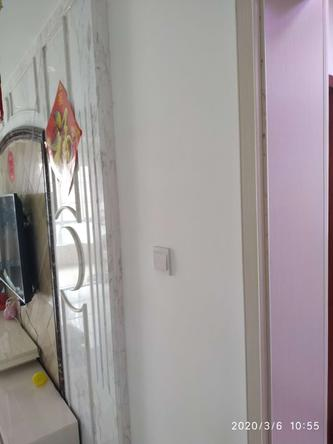switch: (152, 249, 170, 274)
